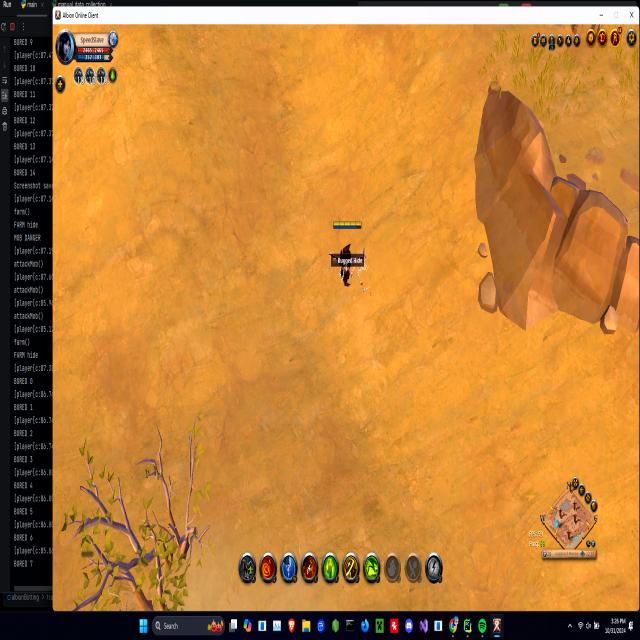red: (329, 218, 366, 292)
